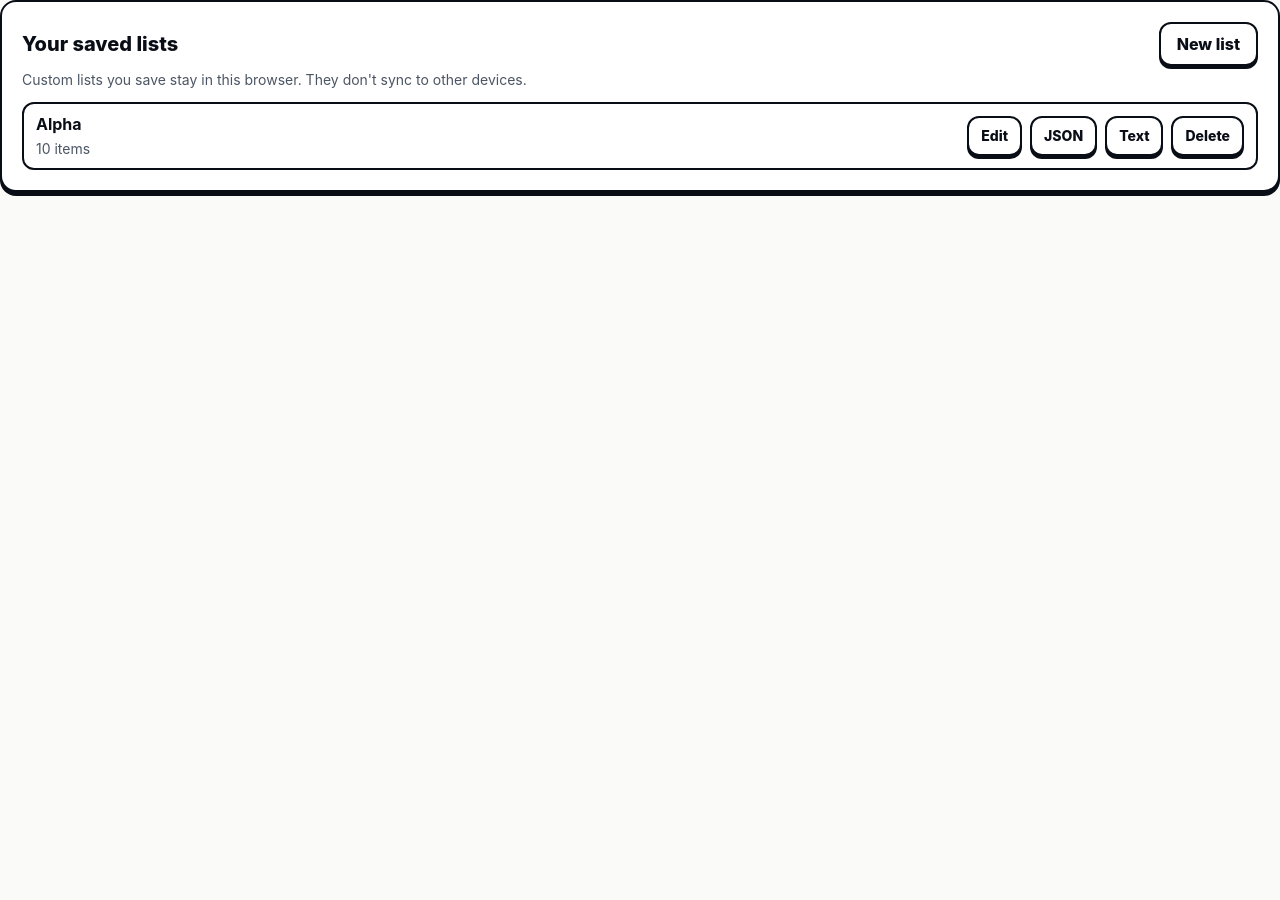
Test: SavedListsManager › lists, edits, exports and deletes saved lists
The width and height of the screenshot is (1280, 900).
Check: the text "10 items" is shown, box 36,140 -> 90,157
Click the button "Edit". click: (995, 136)
box: 967,116 -> 1022,156
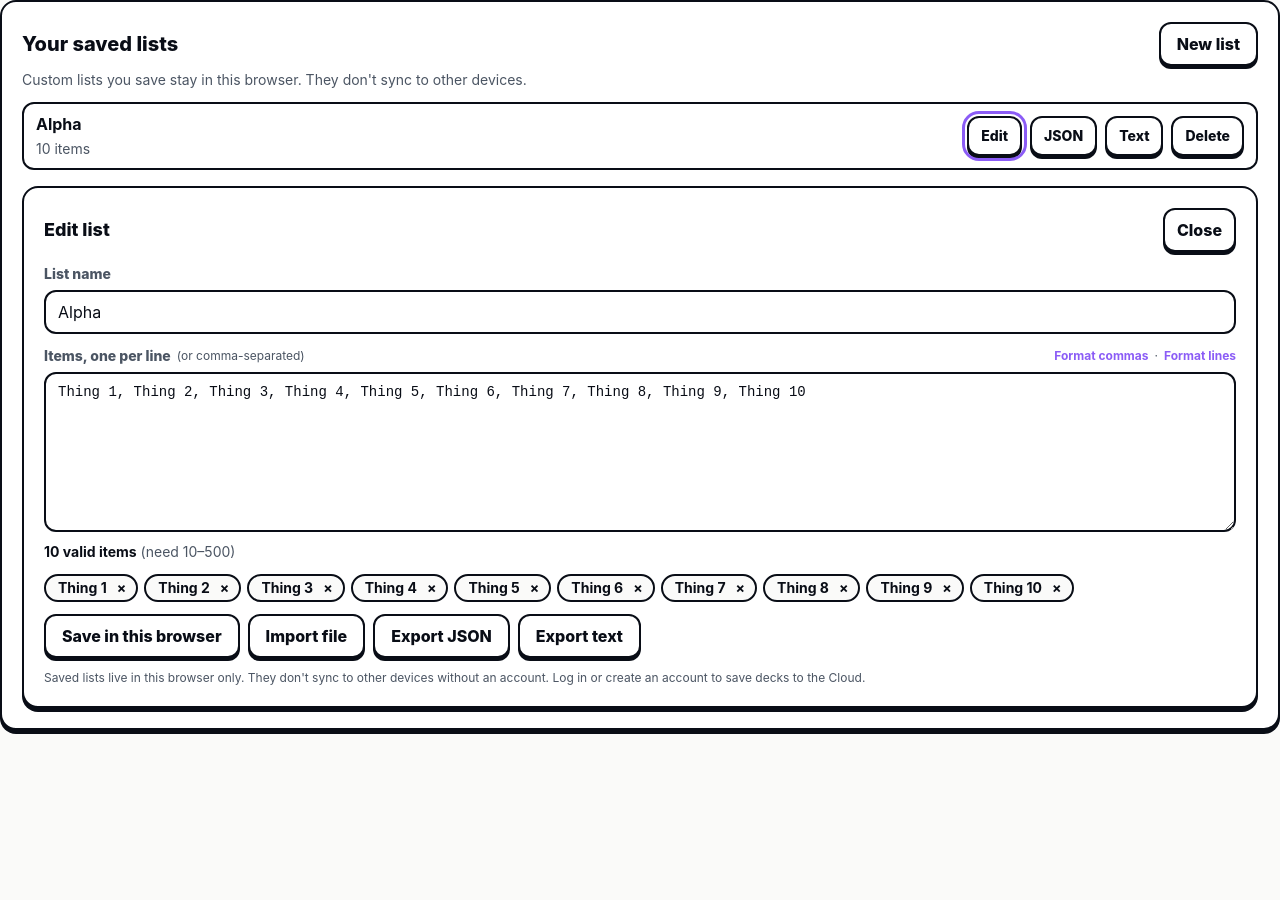
Check: the field labelled "List name" holds "Alpha", box 44,290 -> 1236,334
Click the button "Close". click: (1199, 230)
box: 1163,208 -> 1236,252
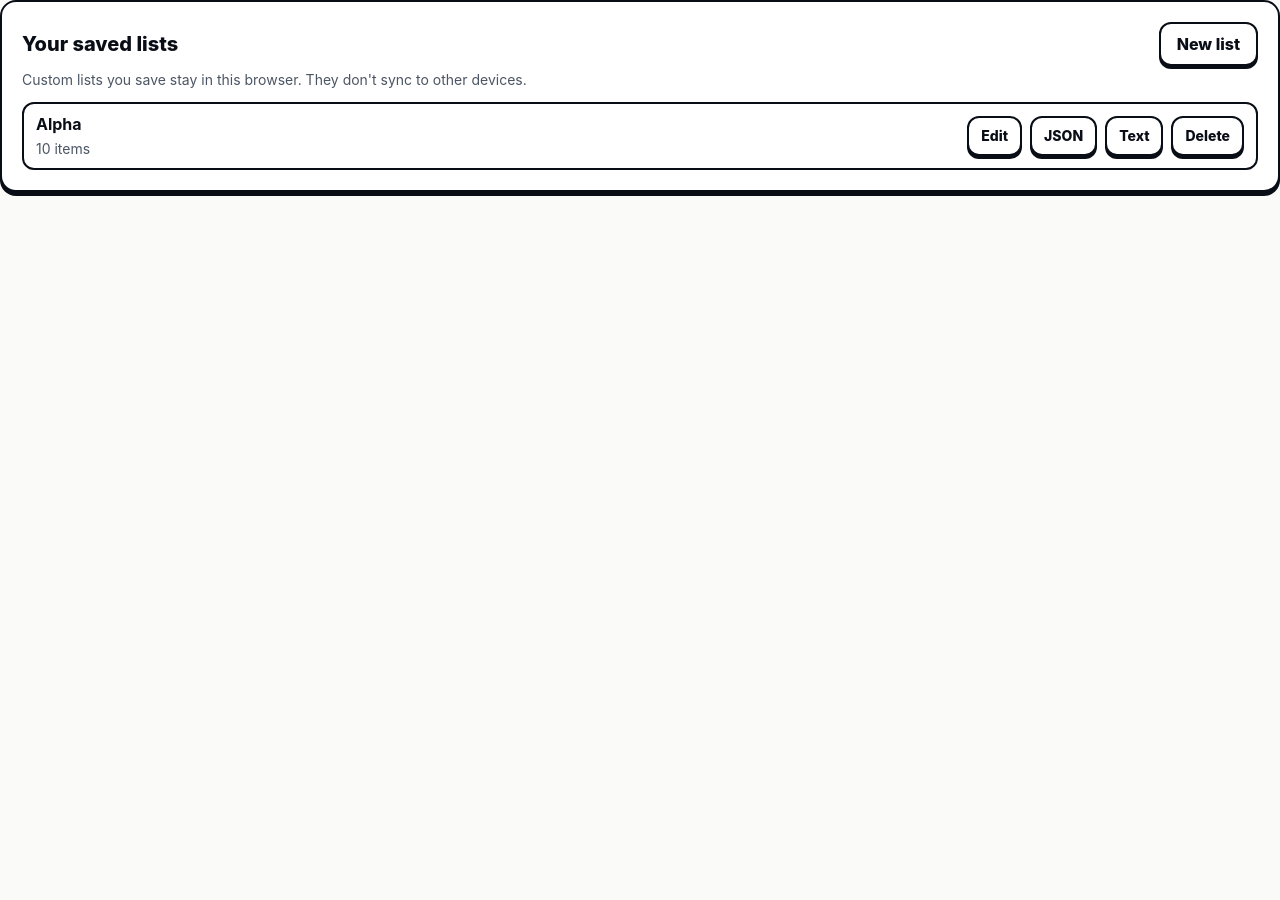
Click the button "Delete". click: (1208, 136)
box: 1172,116 -> 1244,156
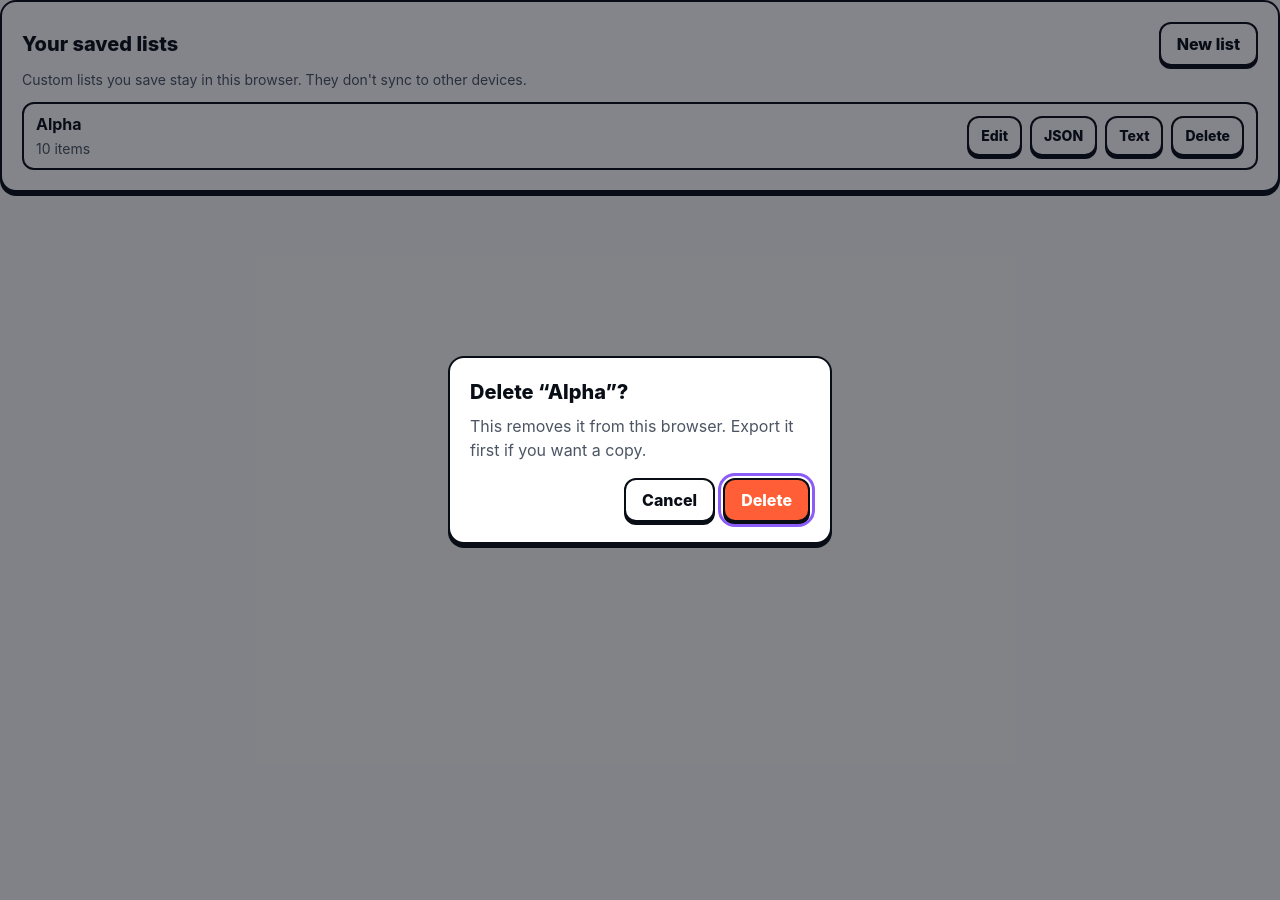
Click the button "Delete" below "Delete “Alpha”?". click: (767, 500)
box: 723,478 -> 810,522
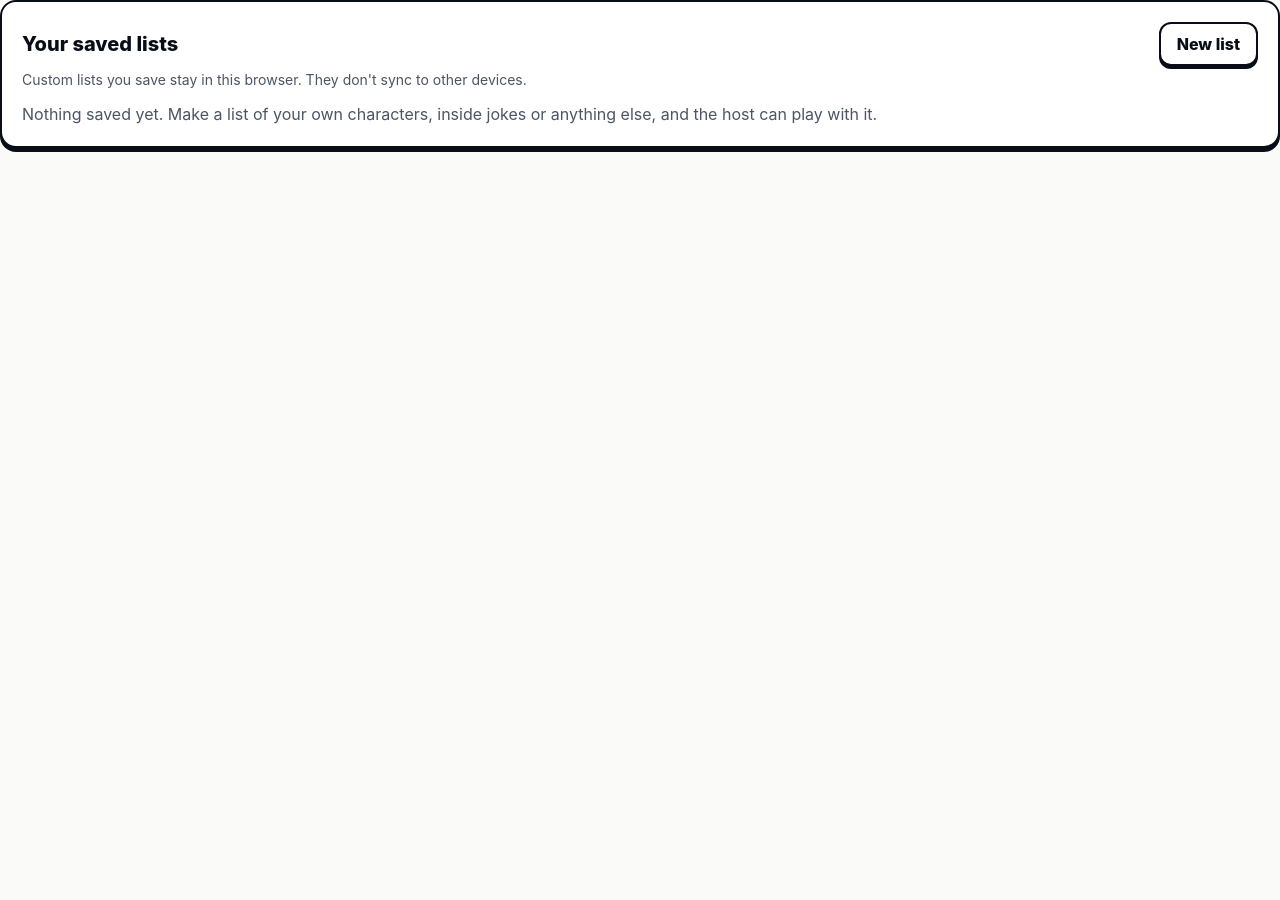
Check: the text "Nothing saved yet" is shown, box 22,104 -> 877,124
